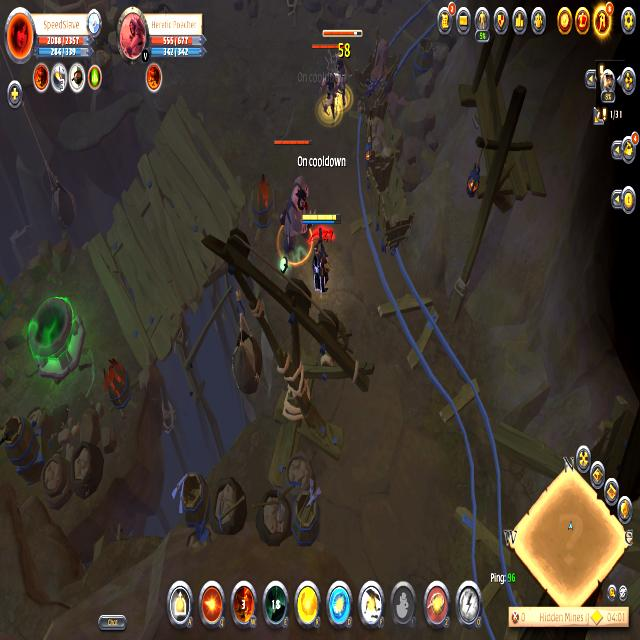ore: (274, 135, 315, 278), (322, 23, 366, 105), (313, 38, 350, 116)
red: (301, 211, 340, 299)
